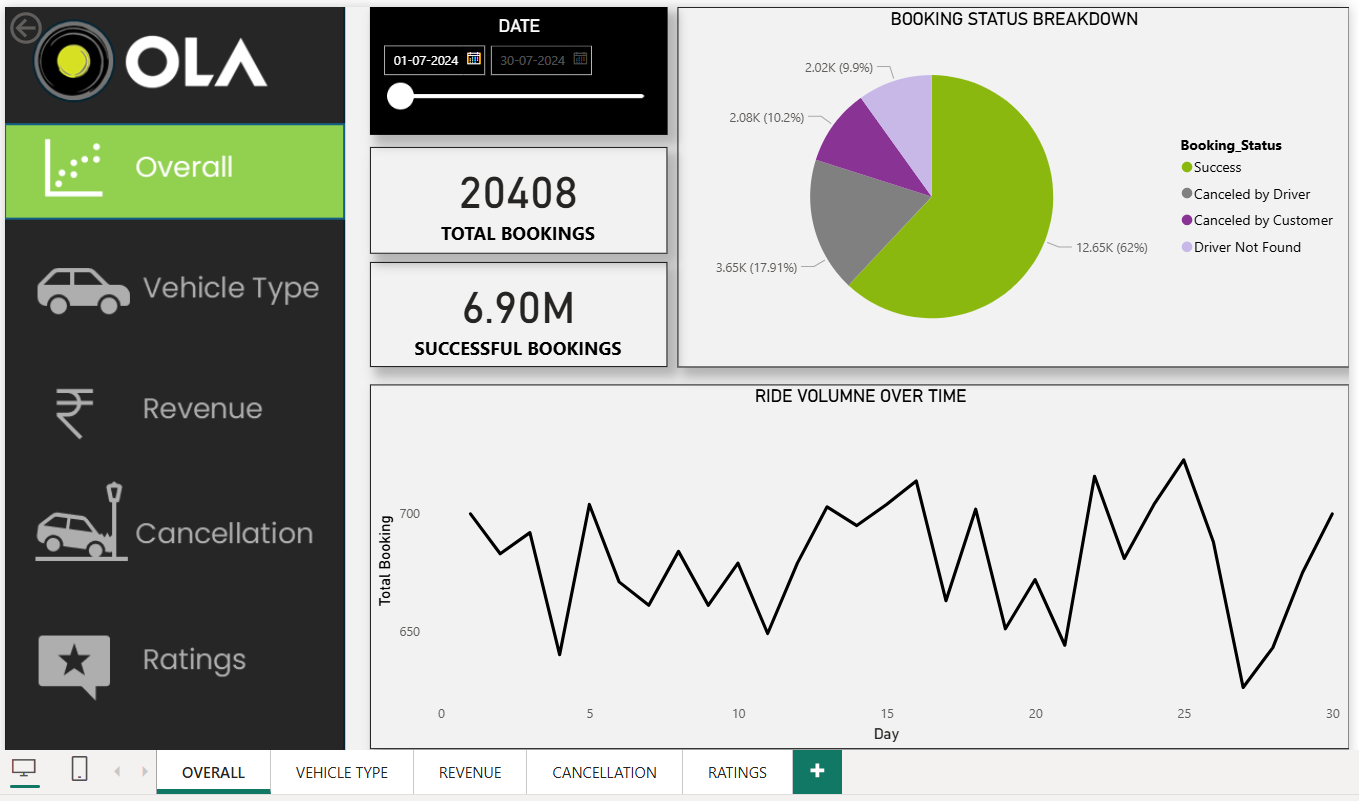

The page's visual inventory and layout, read from the dashboard file:
{"tool":"powerbi","page":{"name":"OVERALL","canvas":[1280,720],"ordinal":0},"visuals":[{"type":"actionButton","box":[0,222.3,322.5,94.7],"z":0},{"type":"actionButton","box":[0,343.1,322.5,94.7],"z":1000},{"type":"actionButton","box":[0,461.1,322.5,94.7],"z":2000},{"type":"actionButton","box":[0,583.2,322.5,94.7],"z":3000},{"type":"lineChart","title":"RIDE VOLUMNE OVER TIME","fields":{"Y":["CountNonNull(July.Booking_ID)"],"Category":["July.Date.Variation.Date Hierarchy.Day"]},"box":[347.1,360,932.9,347.1],"z":4000},{"type":"pieChart","title":"BOOKING STATUS BREAKDOWN","fields":{"Category":["July.Booking_Status"],"Y":["CountNonNull(July.Booking_Status)"]},"box":[640,0,640,342.9],"z":5000},{"type":"card","title":"BOOKING STATUS BREAKDOWN","fields":{"Values":["Count(July.Booking_ID)"]},"box":[347.1,132.9,282.9,101.4],"z":6000},{"type":"slicer","title":"DATE","fields":{"Values":["July.Date"]},"box":[347.1,0,282.9,121.4],"z":7000},{"type":"card","title":"BOOKING STATUS BREAKDOWN","fields":{"Values":["Sum(July.Booking_Value)"]},"box":[347.1,242.9,282.9,100],"z":8000},{"type":"actionButton","box":[0,0,100,40],"z":9000}]}

Visuals, with their boxes in screenshot pixels (x1, y1, x2, y2):
actionButton: 0:236:338:335
actionButton: 0:363:338:462
actionButton: 0:486:338:585
actionButton: 0:614:338:713
"RIDE VOLUMNE OVER TIME" lineChart: 363:380:1340:744
"BOOKING STATUS BREAKDOWN" pieChart: 670:4:1340:363
"BOOKING STATUS BREAKDOWN" card: 363:143:660:249
"DATE" slicer: 363:4:660:131
"BOOKING STATUS BREAKDOWN" card: 363:258:660:363
actionButton: 0:4:105:45
